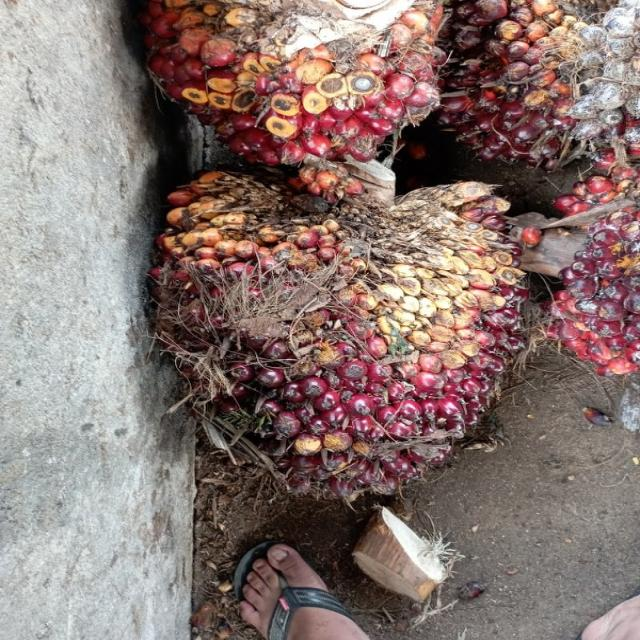fraksi 1: (93, 126, 577, 560)
